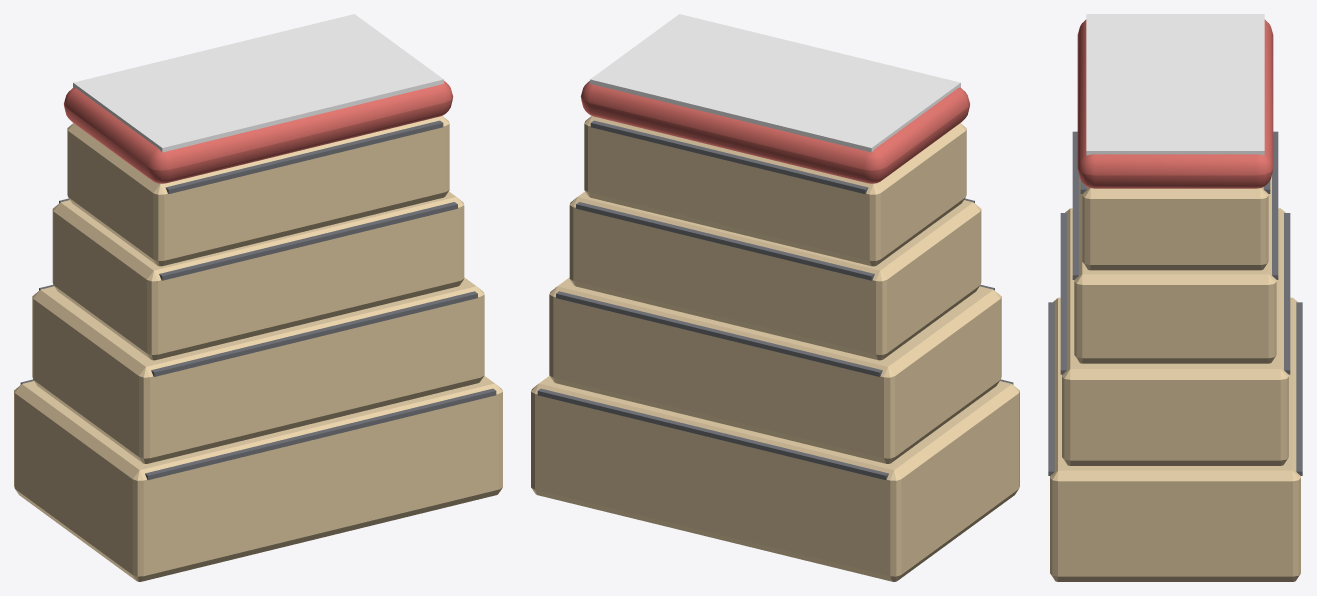
File: community-sports-hall-and-changing-rooms-vaulting-box-98435109__35099.glb
The picture shows the model from 3 angles, left to right: view 1: azimuth 30°, elevation 25°; view 2: azimuth 150°, elevation 25°; view 3: azimuth 270°, elevation 25°; orthographic projection.
Parts seen in each view (by area): view 1: vaulting-box; view 2: vaulting-box; view 3: vaulting-box.
Boxes of the visible parts, x1,y1,x2,y2 form: vaulting-box: [14, 14, 502, 581]; vaulting-box: [531, 14, 1019, 581]; vaulting-box: [1048, 14, 1302, 581].
Bounding box in the file's own units: 1.05 × 1.12 × 0.628.
